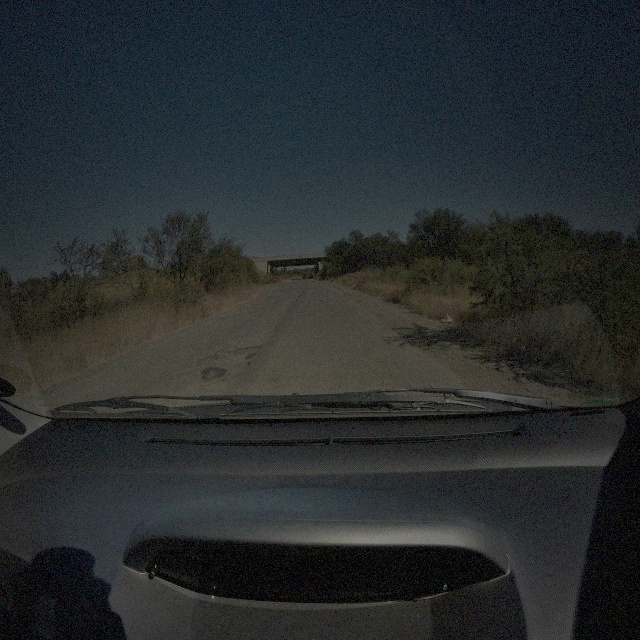pothole: (195, 354, 219, 369), (233, 345, 262, 356)
